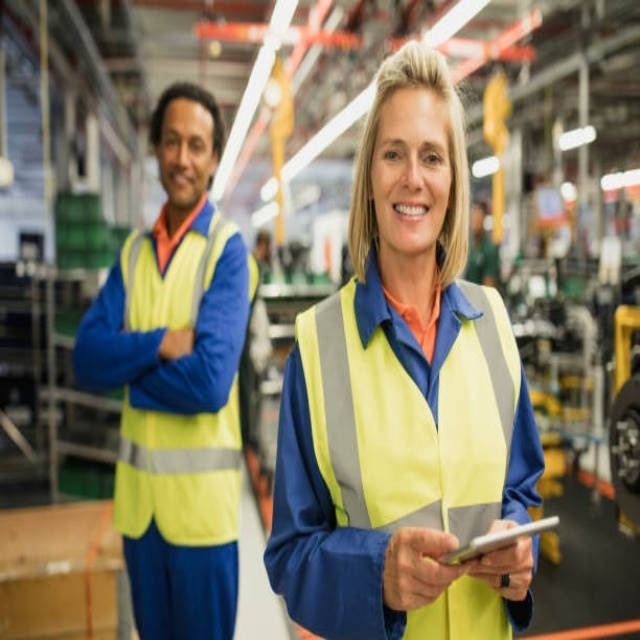Sin_gafas: (377, 145, 446, 171), (161, 134, 211, 158)
Sin_guantes: (383, 522, 462, 607), (468, 516, 532, 605)
Sin_mascara: (383, 190, 435, 246), (164, 168, 199, 205)
